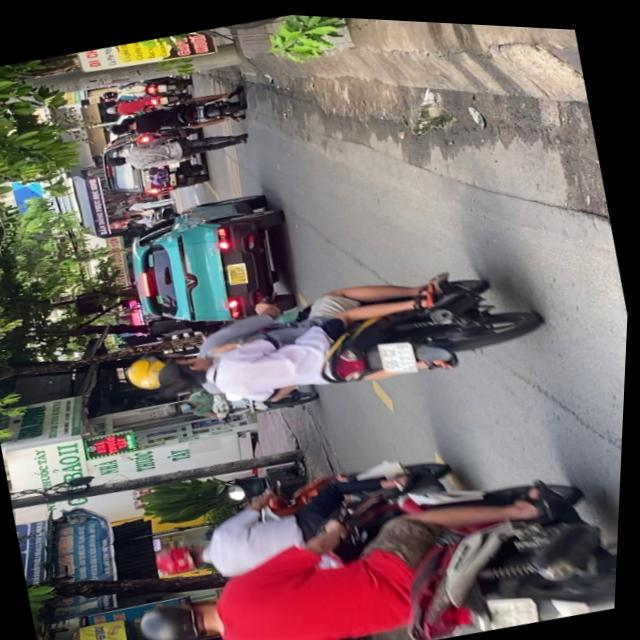helmet: (139, 589, 229, 640), (155, 535, 217, 579), (125, 348, 181, 394)
licenseplate: (122, 422, 625, 640), (111, 227, 552, 448), (142, 426, 491, 606)
motorcyclist: (156, 345, 225, 393)
nohelmet: (490, 586, 543, 626), (379, 333, 420, 373)
